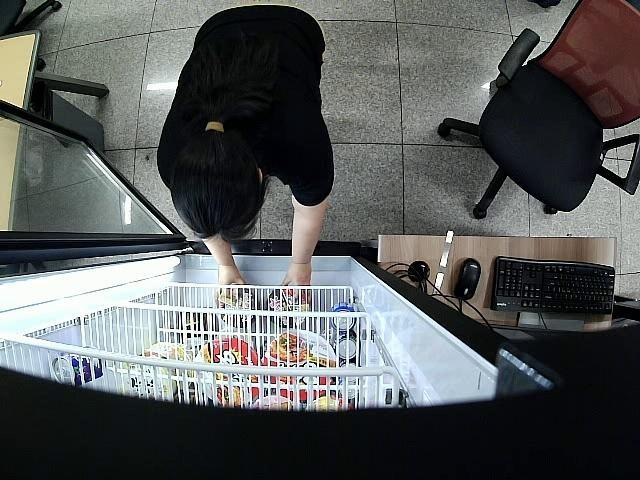07_buldak_L: (215, 280, 258, 329), (268, 286, 308, 328)
